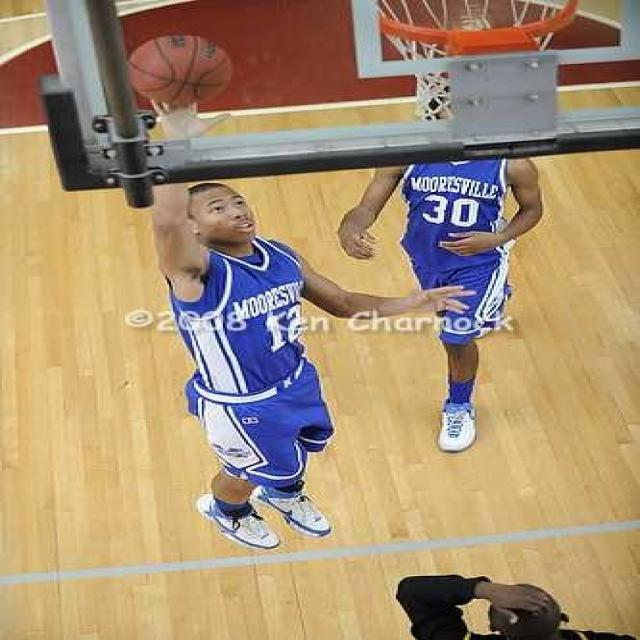Ball: (128, 36, 232, 102)
